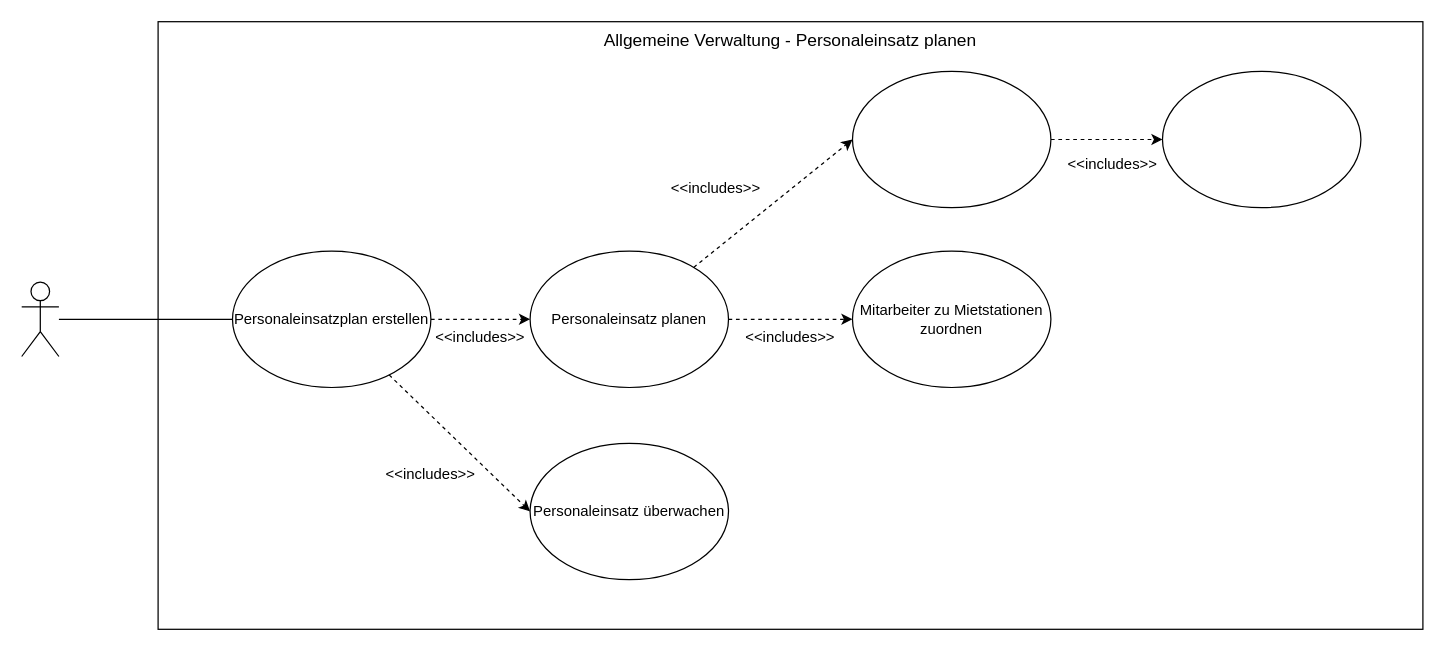
The diagram is 1445 pixels wide and 651 high, and some of its shapes have lost their labels. Each missing label, with the centre of its shape:
"Ereignisse auswerten" goes at [1261,139].
"HR" goes at [39,318].
"Notwendige Stammdaten und Auslastungsdaten bereitstellen" goes at [951,139].
